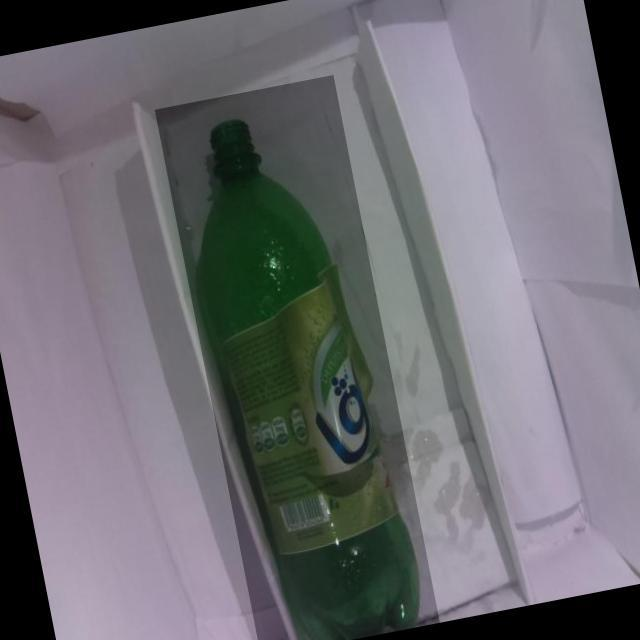good: (155, 75, 440, 640)
